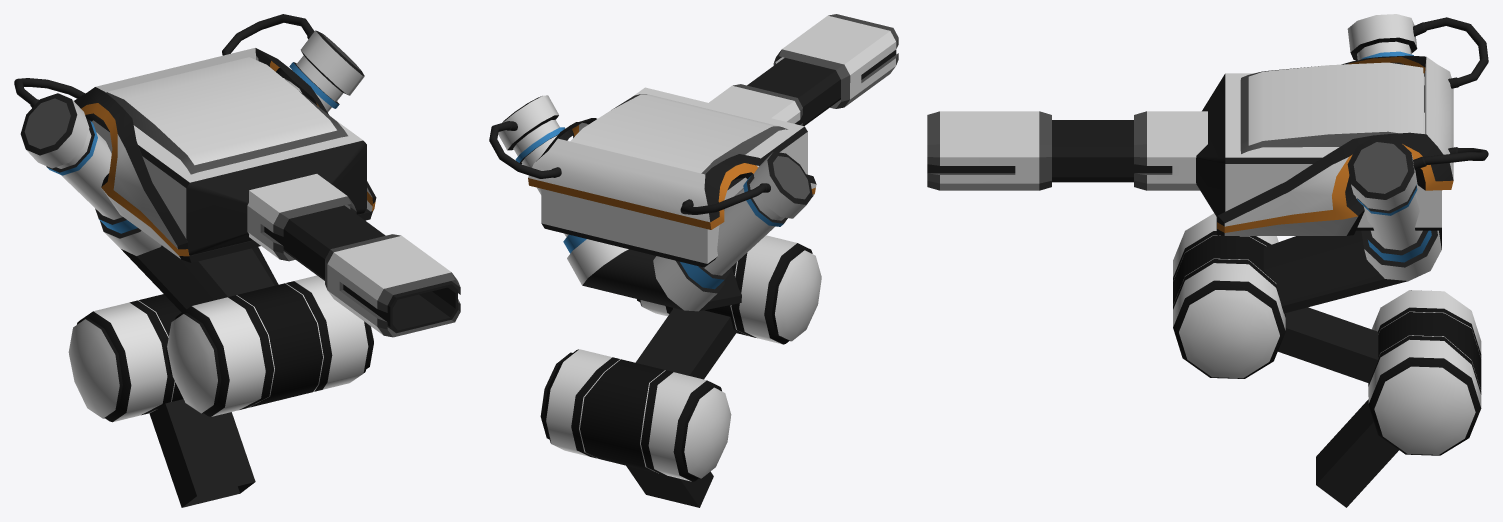
Rendered from tower_cannon_asset.fbx.
The picture shows the model from 3 angles, left to right: view 1: azimuth 30°, elevation 25°; view 2: azimuth 150°, elevation 25°; view 3: azimuth 270°, elevation 25°; orthographic projection. The views are drawn at different scales.
Visible parts, largest first — view 1: cannon_top1, cannon_bottom; view 2: cannon_top1, cannon_bottom; view 3: cannon_top1, cannon_bottom.
Boxes of the visible parts, left/top/right/bottom form: cannon_top1: left=14, top=14, right=460, bottom=416; cannon_bottom: left=68, top=294, right=255, bottom=507; cannon_top1: left=489, top=14, right=898, bottom=344; cannon_bottom: left=540, top=308, right=737, bottom=507; cannon_top1: left=927, top=14, right=1488, bottom=378; cannon_bottom: left=1278, top=290, right=1481, bottom=507.
Size of the model in its own units: 43.14 by 52.25 by 63.52.
